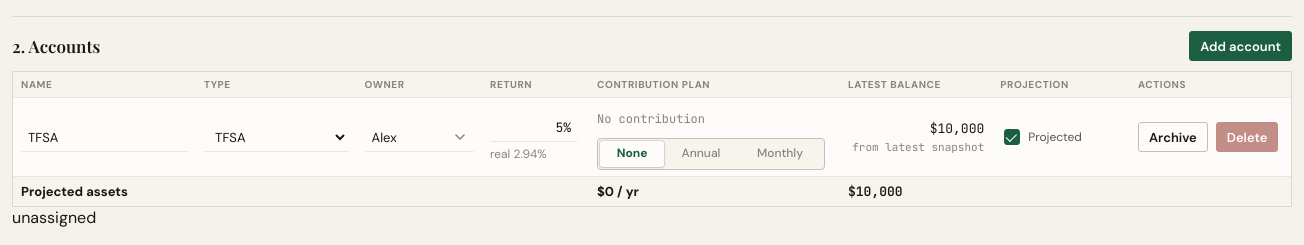
Scenario: AccountsSection — owner dropdown › saves owner_id when owner is selected from dropdown
Select "Alex" in the dropdown named "TFSA account owner" at [419, 137], box [365,122,474,152]
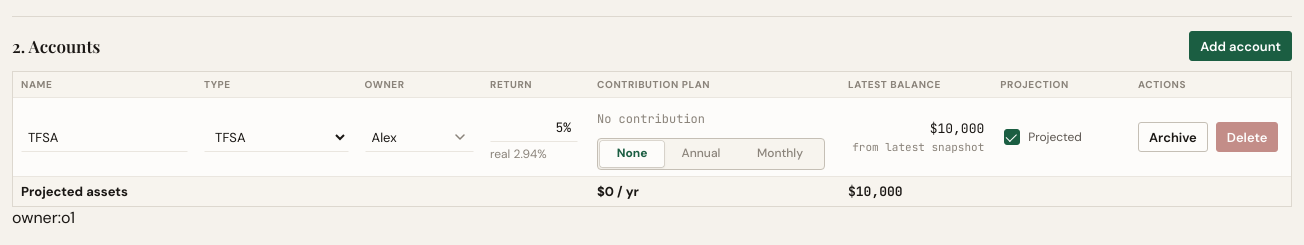
Result: the text "owner:o1" is shown at [12,207,75,228]
